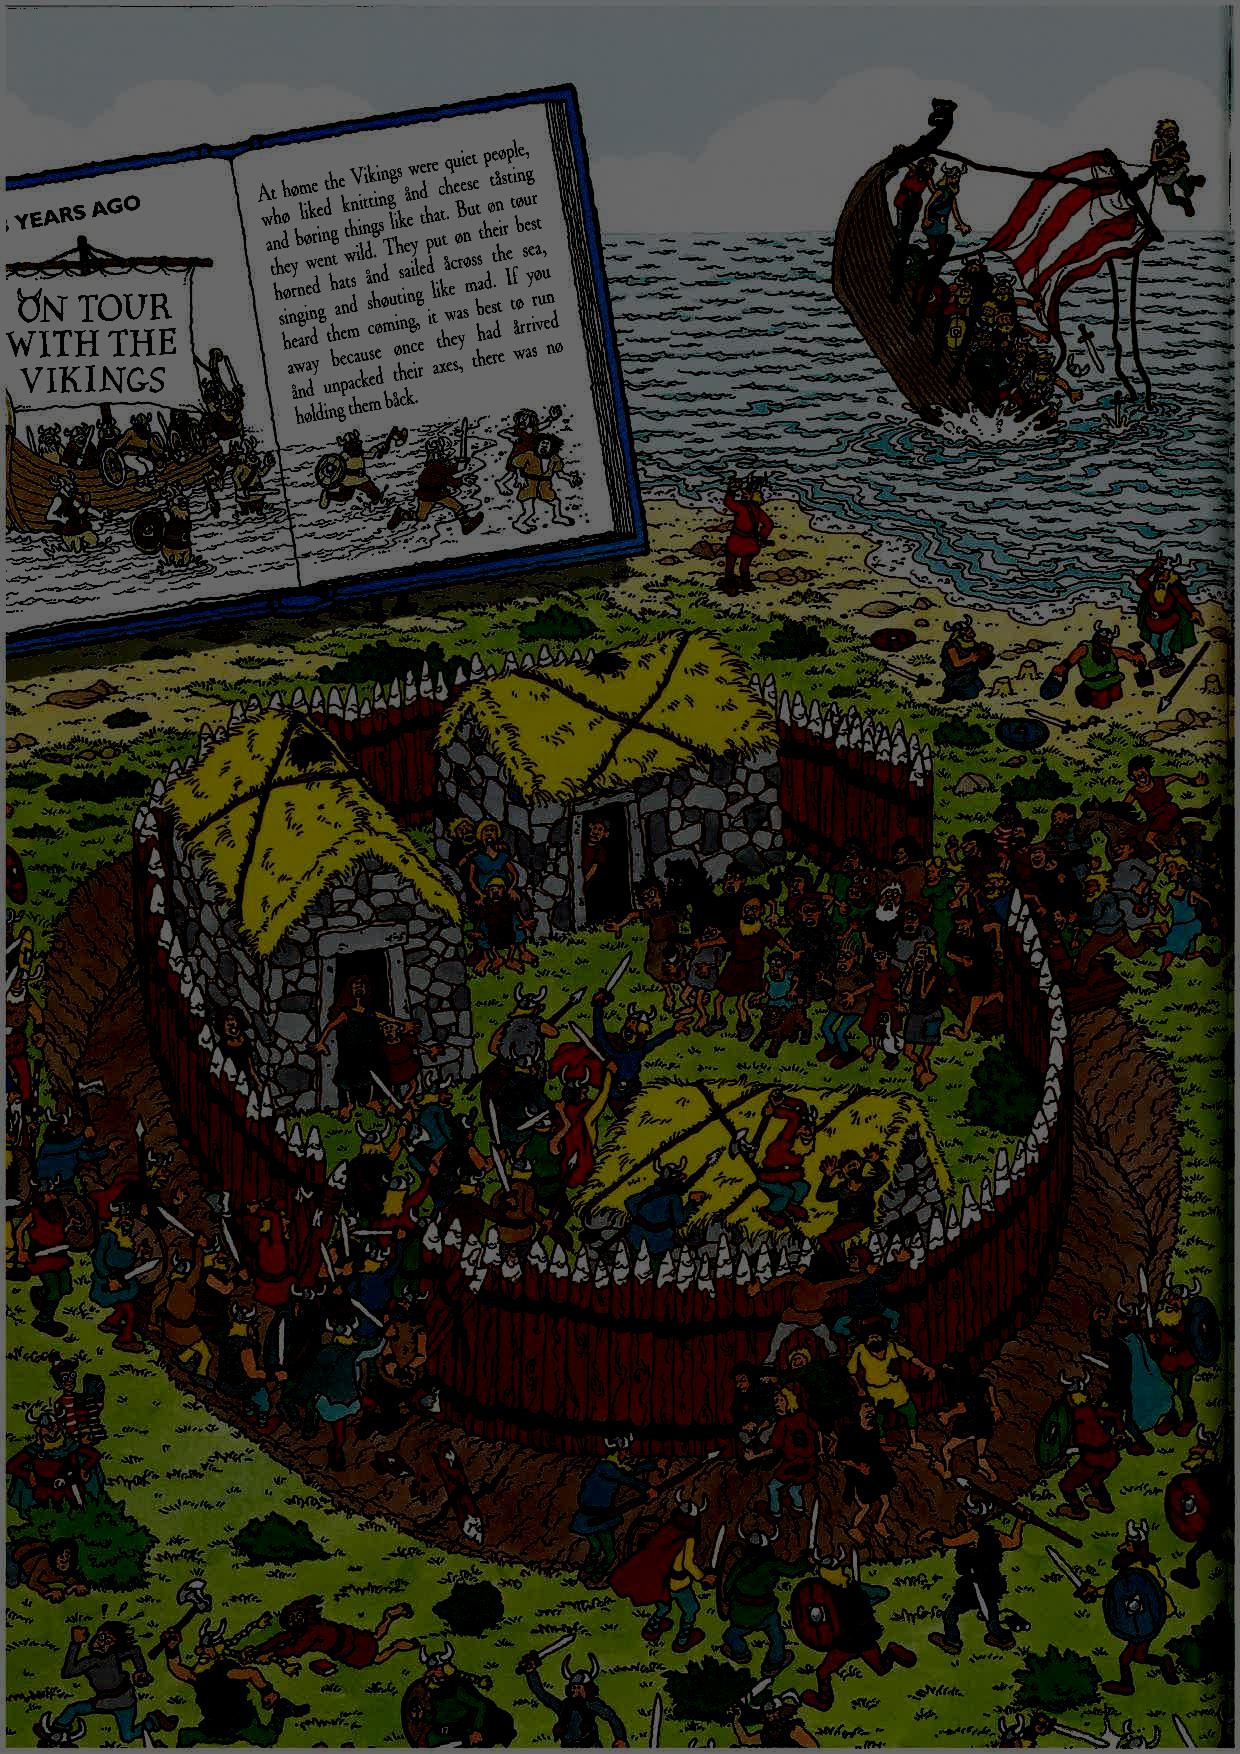waldos: (47, 1347, 106, 1448)
